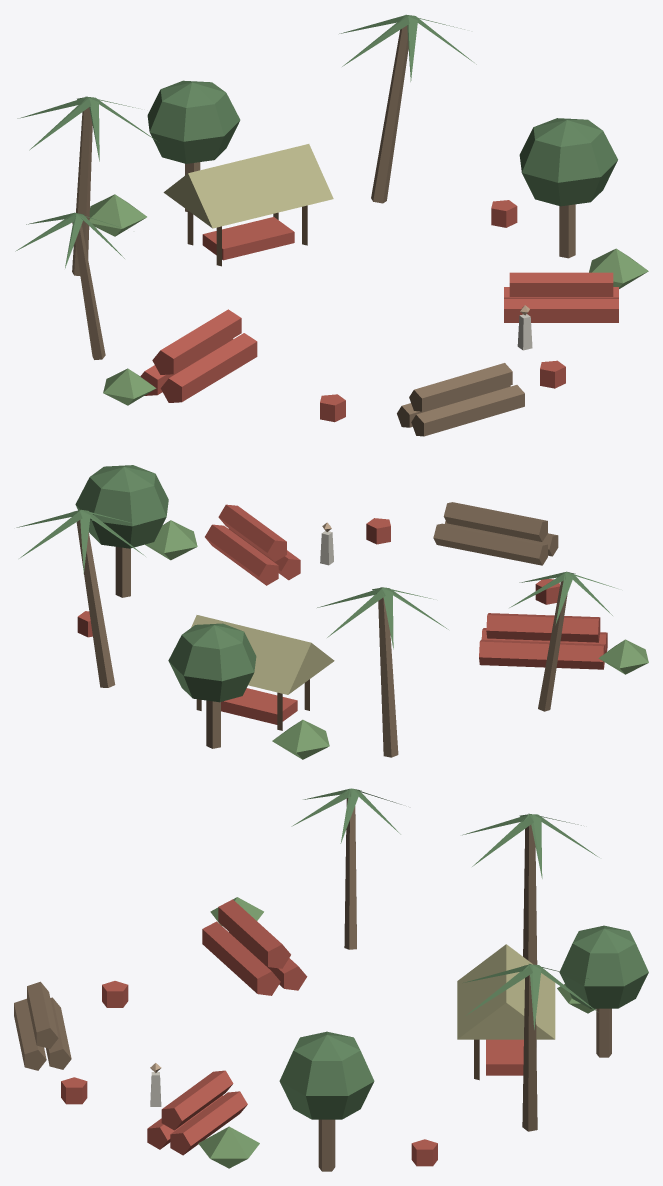
File: brazilwood-camp.glb
3 views of the same model, one above another, from view 1: azimuth 30°, elevation 25°; view 2: azimuth 150°, elevation 25°; view 3: azimuth 270°, elevation 25° (orthographic). The views are drawn at different scales.
Visible parts, largest first — view 1: LOD0; view 2: LOD0; view 3: LOD0.
Boxes of the visible parts, x1,y1,x2,y2 form: LOD0: (15, 14, 648, 436); LOD0: (16, 465, 648, 759); LOD0: (14, 788, 648, 1171).
Size of what is drawn, in the model's own units: 1.62 by 0.4811 by 1.56.
